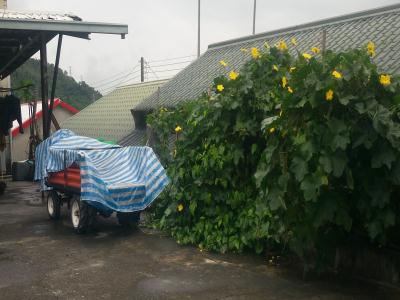plastic_bag: (37, 135, 160, 187)
